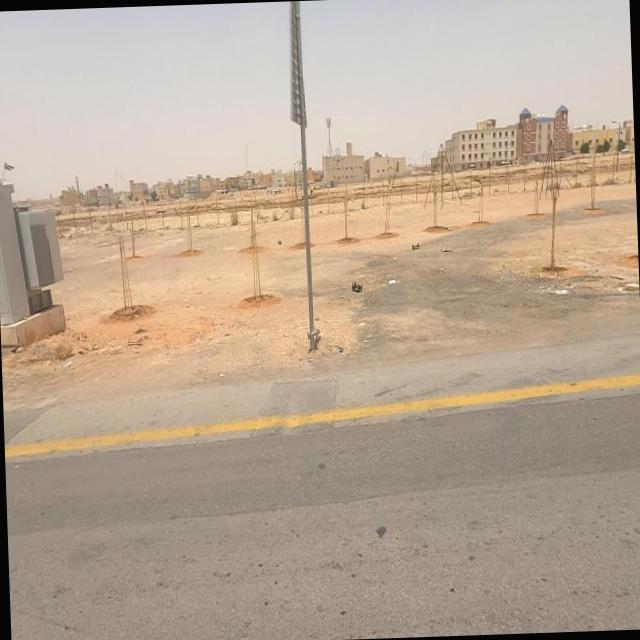debris: (333, 256, 383, 314), (398, 227, 433, 270)
